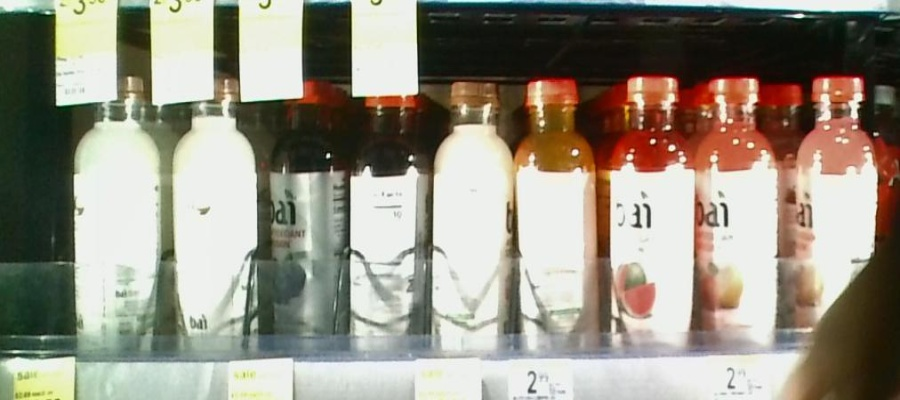bottle: (68, 70, 165, 362), (168, 67, 261, 360), (696, 66, 782, 341), (611, 71, 696, 347), (431, 73, 516, 348), (518, 72, 601, 349), (346, 69, 429, 343), (795, 68, 878, 330), (263, 72, 341, 334)
